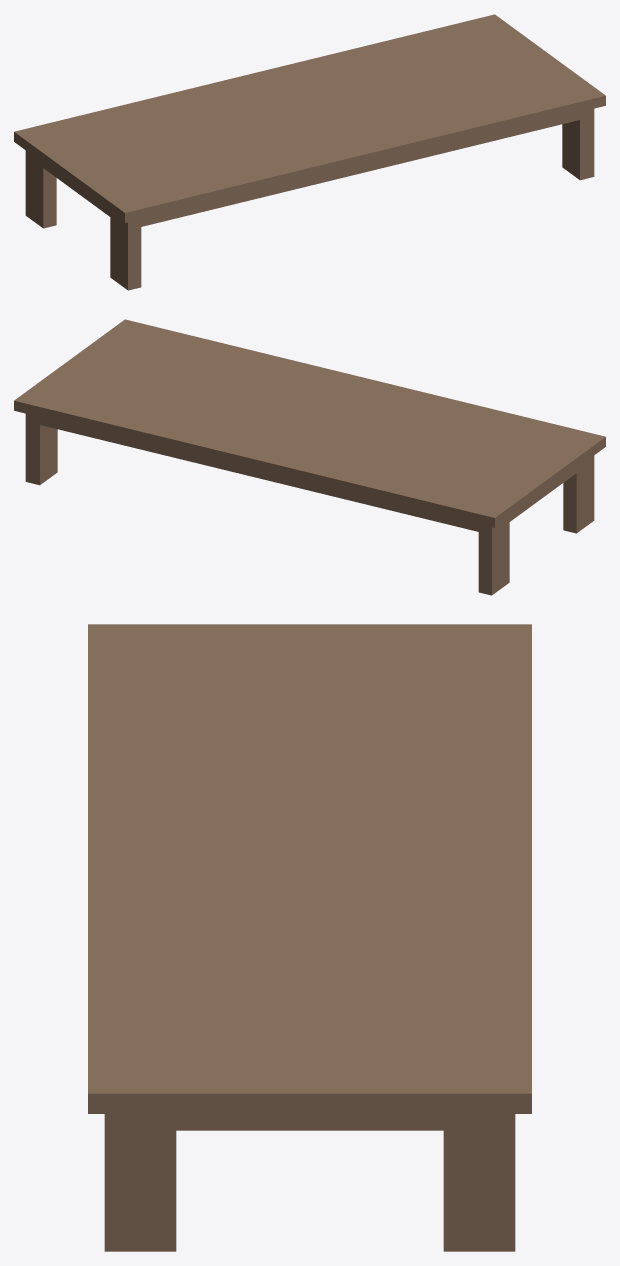
File: table.FBX
3 views of the same model, one above another, from view 1: azimuth 30°, elevation 25°; view 2: azimuth 150°, elevation 25°; view 3: azimuth 270°, elevation 25° (orthographic). The views are drawn at different scales.
Parts seen in each view (by area): view 1: Box001; view 2: Box001; view 3: Box001.
Part boxes in pixels (x1=…): Box001: x1=14, y1=14, x2=605, y2=290; Box001: x1=14, y1=319, x2=605, y2=595; Box001: x1=88, y1=624, x2=531, y2=1251.
Bounding box in the file's own units: 248 × 40.57 × 99.04.
